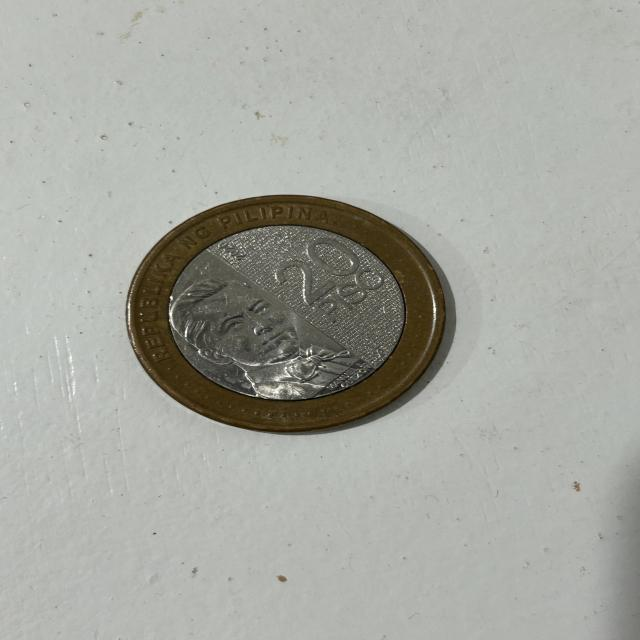20_New_Front: (261, 234, 394, 323)
